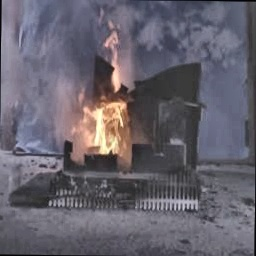fire: (74, 29, 135, 156)
